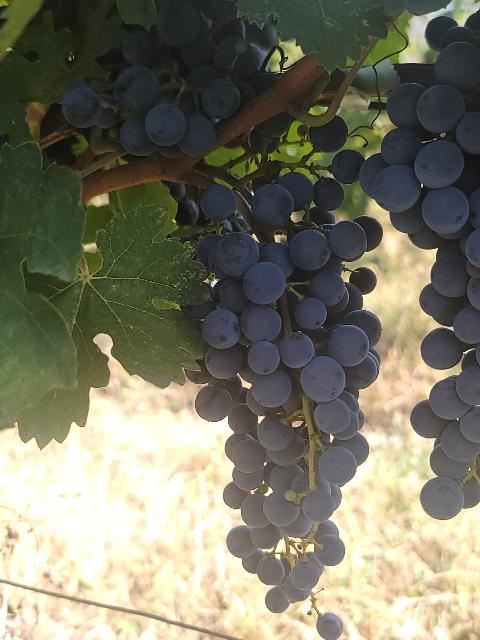grapes: (184, 155, 382, 611), (360, 11, 480, 520), (61, 0, 265, 162)
